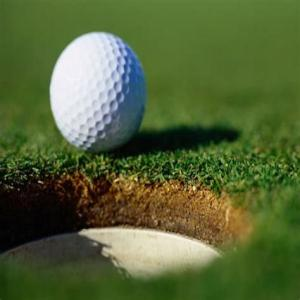Golf: (51, 29, 144, 153)
